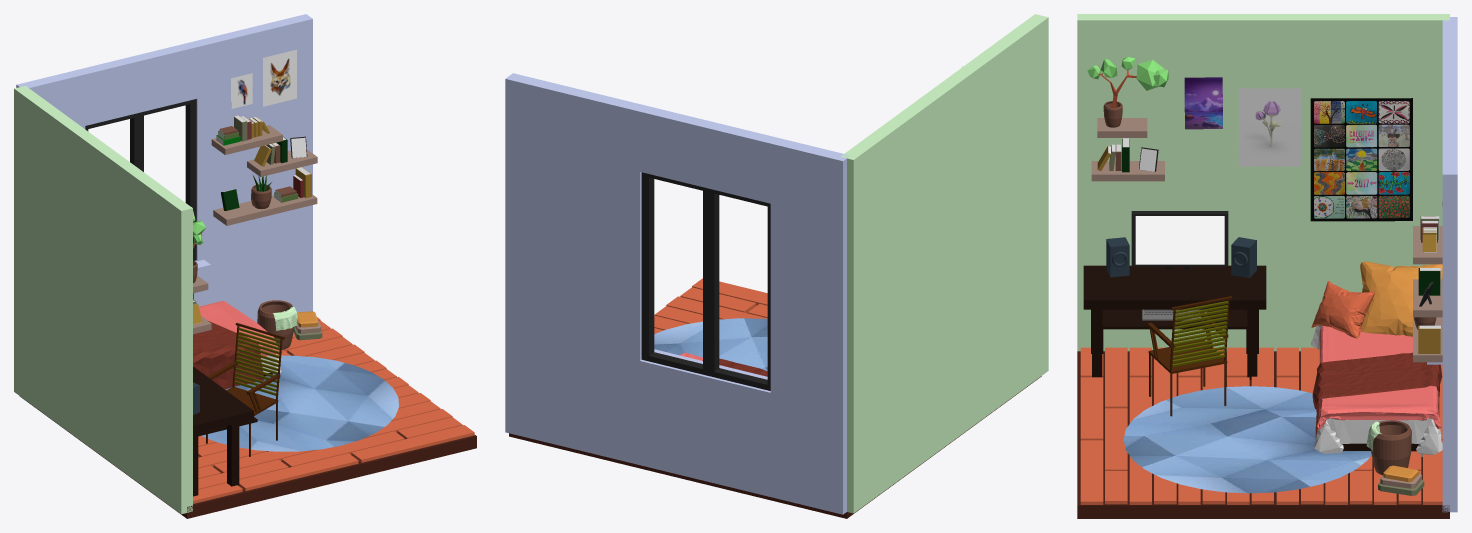
File: room3.gltf
3 renders of one model, left to right at view 1: azimuth 30°, elevation 25°; view 2: azimuth 150°, elevation 25°; view 3: azimuth 270°, elevation 25°, orthographic. The views are drawn at different scales.
Parts seen in each view (by area): view 1: Cube, Cube.002, Cylinder.006, Cube.001, Cube.068, Cube.086, Cube.067, Plane.003, Cube.054, Cube.069, Plane.004, Cube.050 (+11 smaller); view 2: Cube.002, Cube, Cylinder.006, Cube.048, Cube.050, Cube.001, Cube.052, Cube.067, Cube.069, Cube.049, Cube.068; view 3: Cube, Cylinder.006, Plane.007, Cube.002, Cube.001, Cube.054, Cube.004, Plane.008, Cube.086, Plane.003, Cube.063, Plane.001 (+35 smaller).
Part boxes in pixels (x1,y1,x2,y2): Cube: (14,86,192,514); Cube.002: (16,14,312,322); Cylinder.006: (201,355,398,451); Cube.001: (19,396,476,518); Cube.068: (193,425,474,503); Cube.086: (206,323,284,456); Cube.067: (198,417,462,489); Plane.003: (193,321,264,389); Cube.054: (193,366,253,434); Cube.069: (198,409,452,478); Plane.004: (263,49,296,106); Cube.050: (185,99,196,260); Cube.002: (505,73,849,514); Cube: (840,14,1048,513); Cylinder.006: (654,318,767,370); Cube.048: (703,187,719,377); Cube.050: (641,172,654,361); Cube.001: (509,313,1041,518); Cube.052: (644,352,768,390); Cube.067: (680,287,767,317); Cube.069: (666,296,767,319); Cube.049: (767,203,770,390); Cube.068: (692,278,767,305); Cube: (1077,14,1449,351); Cylinder.006: (1123,386,1371,493); Plane.007: (1310,98,1412,221); Cube.002: (1442,17,1457,512); Cube.001: (1077,351,1449,518); Cube.054: (1083,265,1266,309); Cube.004: (1317,325,1441,430); Plane.008: (1238,88,1301,166); Cube.086: (1147,296,1232,416); Plane.003: (1312,352,1441,437); Cube.063: (1135,216,1224,264); Plane.001: (1360,261,1442,336).
Bounding box in the file's own units: 10.2 × 10.2 × 10.2.
77 materials, 6 textured.
